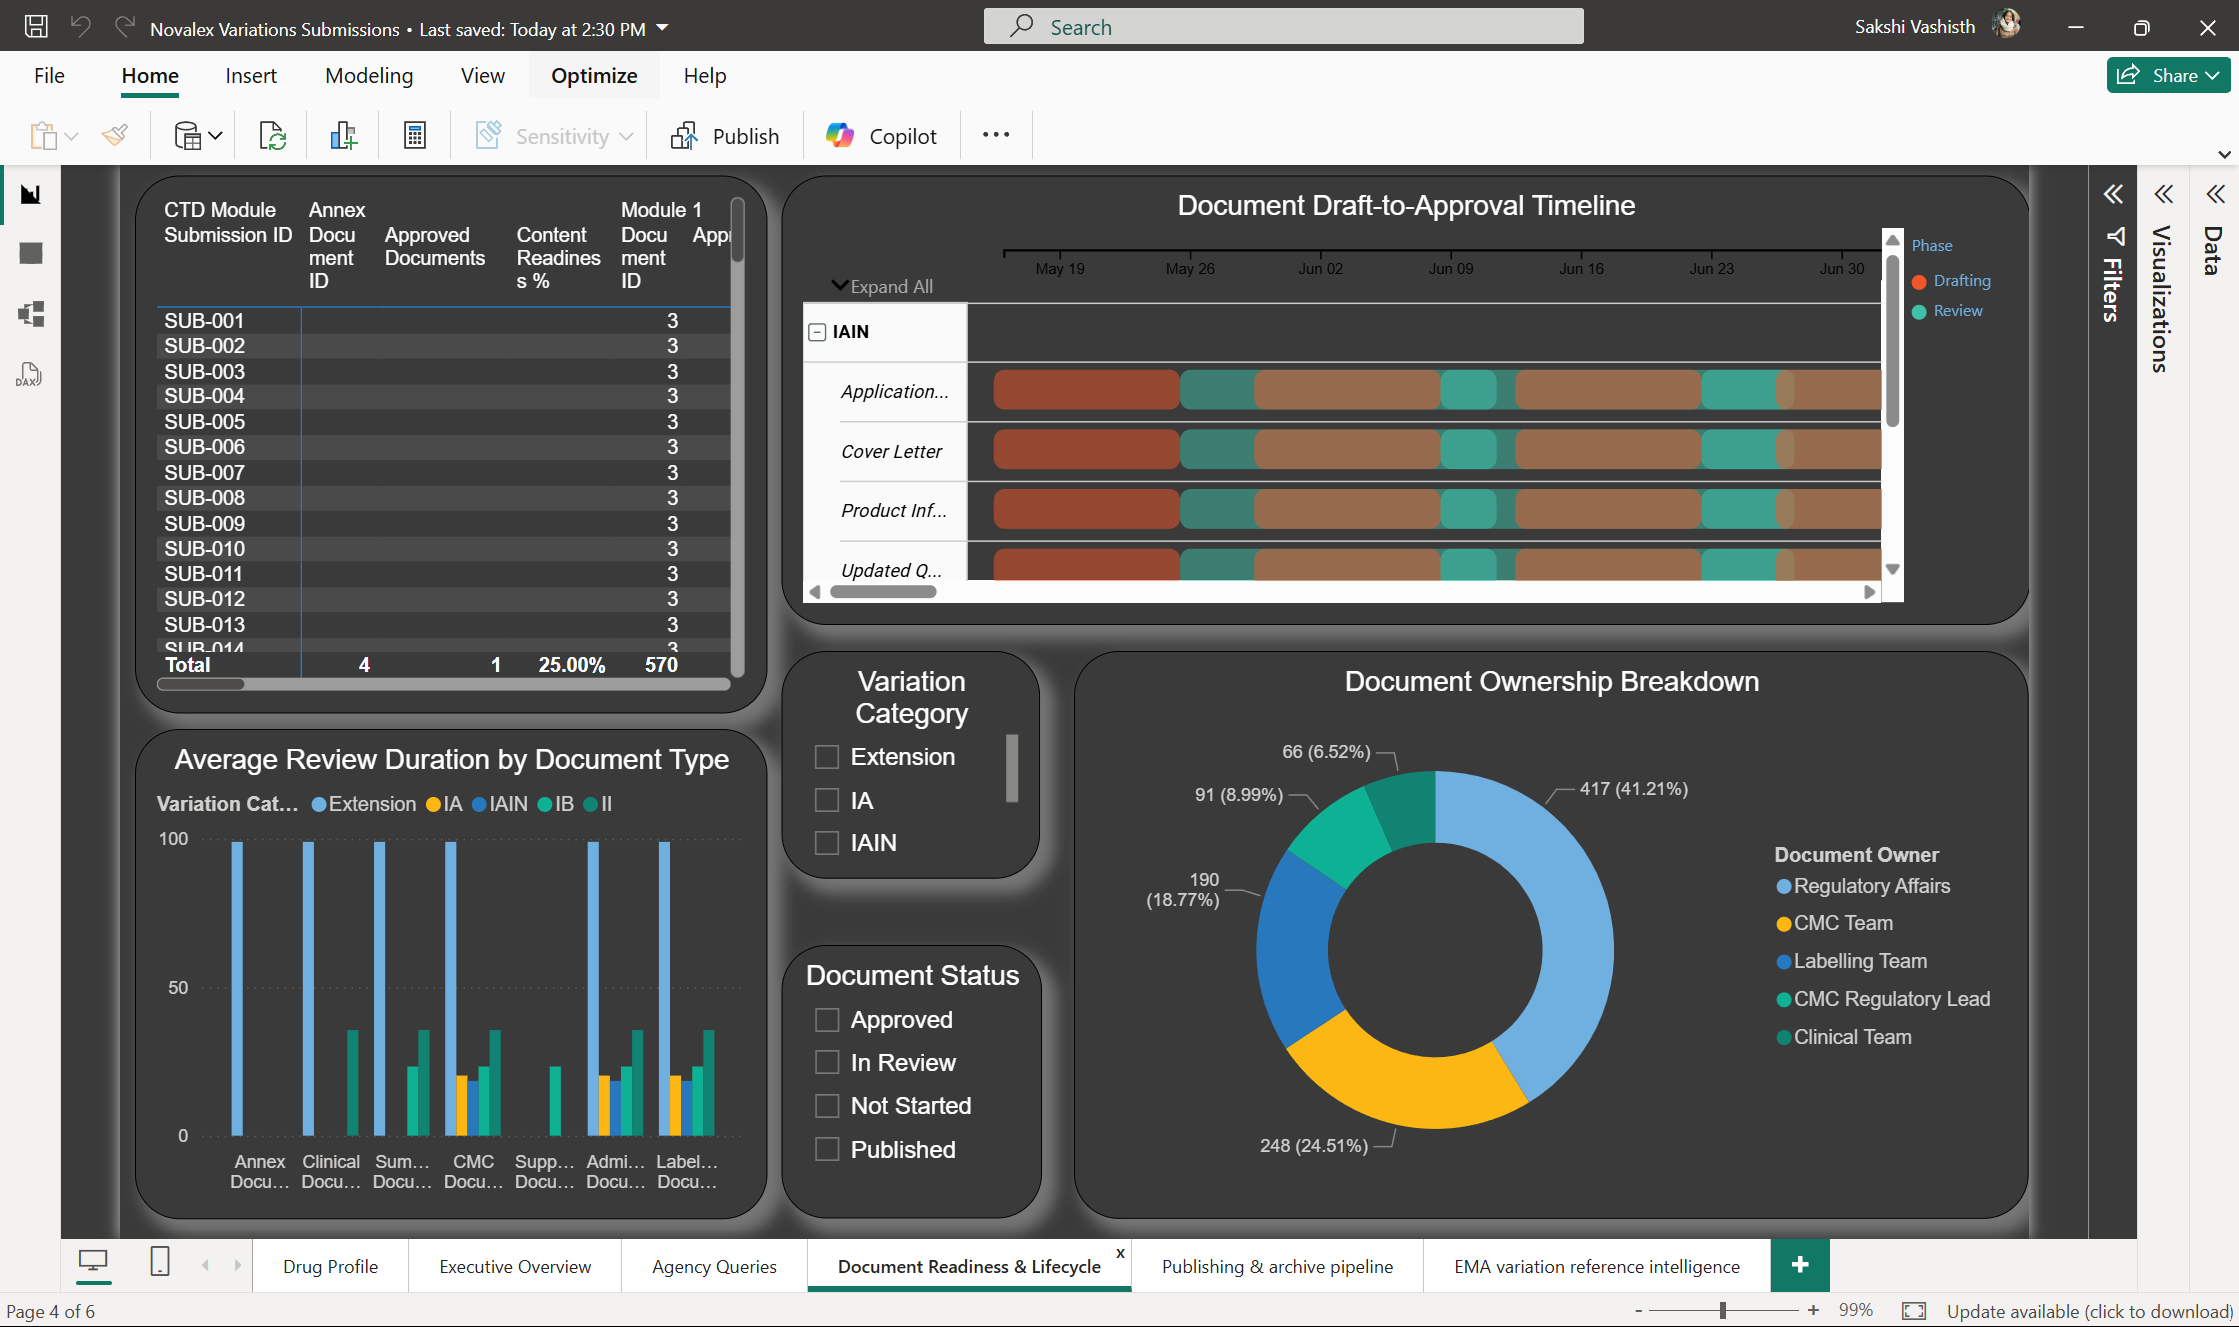

Layout of this report page (visuals, bound fields, positions):
{"tool":"powerbi","page":{"name":"Document Readiness & Lifecycle","canvas":[1280,720],"ordinal":3},"visuals":[{"type":"pivotTable","fields":{"Rows":["Novalex_Document_Lifecycle_Tracker.Submission_ID"],"Columns":["Novalex_Document_Lifecycle_Tracker.CTD_Module"],"Values":["Count(Novalex_Document_Lifecycle_Tracker.Document_ID)","Novalex_Document_Lifecycle_Tracker.Approved Documents","Novalex_Content_Plan_Tracker.Content Readiness %"]},"box":[9.8,7.1,423.8,360.9],"z":0},{"type":"clusteredColumnChart","title":"Average Review Duration by Document Type","fields":{"Category":["Novalex_Document_Lifecycle_Tracker.Document_Type"],"Y":["Avg(Novalex_Document_Lifecycle_Tracker.Days_In_Review)"],"Series":["Novalex_Document_Lifecycle_Tracker.Variation_Category"]},"box":[9.8,377.7,423.8,329],"z":1000},{"type":"Gantt1448688115699","title":"Document Draft-to-Approval Timeline","fields":{"Task":["Document Gantt Milestones.Document_Name"],"Legend":["Document Gantt Milestones.Phase"],"Parent":["Document Gantt Milestones.Variation_Category"],"StartDate":["Document Gantt Milestones.Phase_Start"],"EndDate":["Min(Document Gantt Milestones.Phase_End)"],"ExtraInformation":["Document Gantt Milestones.Document_ID","Document Gantt Milestones.Document_Status","Document Gantt Milestones.CTD_Section"]},"box":[443.3,7.1,837,301.5],"z":2000},{"type":"slicer","title":"Variation Category","fields":{"Values":["Document Gantt Milestones.Variation_Category"]},"box":[443.6,325.5,173.6,152.7],"z":3000},{"type":"donutChart","title":"Document Ownership Breakdown","fields":{"Category":["Novalex_Content_Plan_Tracker.Document_Owner"],"Y":["CountNonNull(Novalex_Document_Lifecycle_Tracker.Document_ID)"]},"box":[640,325.5,640,380.9],"z":4000},{"type":"slicer","title":"Document Status","fields":{"Values":["Novalex_Document_Lifecycle_Tracker.Document_Status"]},"box":[443.3,523.2,174.7,183.5],"z":5000}]}

Visuals, with their boxes on the page's 1280x720 design canvas (x1, y1, x2, y2). These are canvas units, not pixel positions in the 2239x1327 screenshot, which may show the page scaled, cropped or inside an application window:
pivotTable - Novalex_Document_Lifecycle_Tracker.Submission_ID x Novalex_Document_Lifecycle_Tracker.CTD_Module: x1=10 y1=7 x2=434 y2=368
"Average Review Duration by Document Type" clusteredColumnChart: x1=10 y1=378 x2=434 y2=707
"Document Draft-to-Approval Timeline" Gantt1448688115699: x1=443 y1=7 x2=1280 y2=309
"Variation Category" slicer: x1=444 y1=326 x2=617 y2=478
"Document Ownership Breakdown" donutChart: x1=640 y1=326 x2=1280 y2=706
"Document Status" slicer: x1=443 y1=523 x2=618 y2=707
